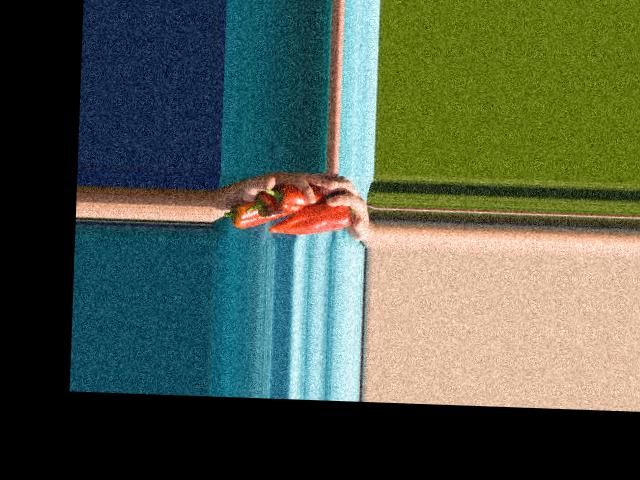bell_pepper: (223, 198, 277, 229)
